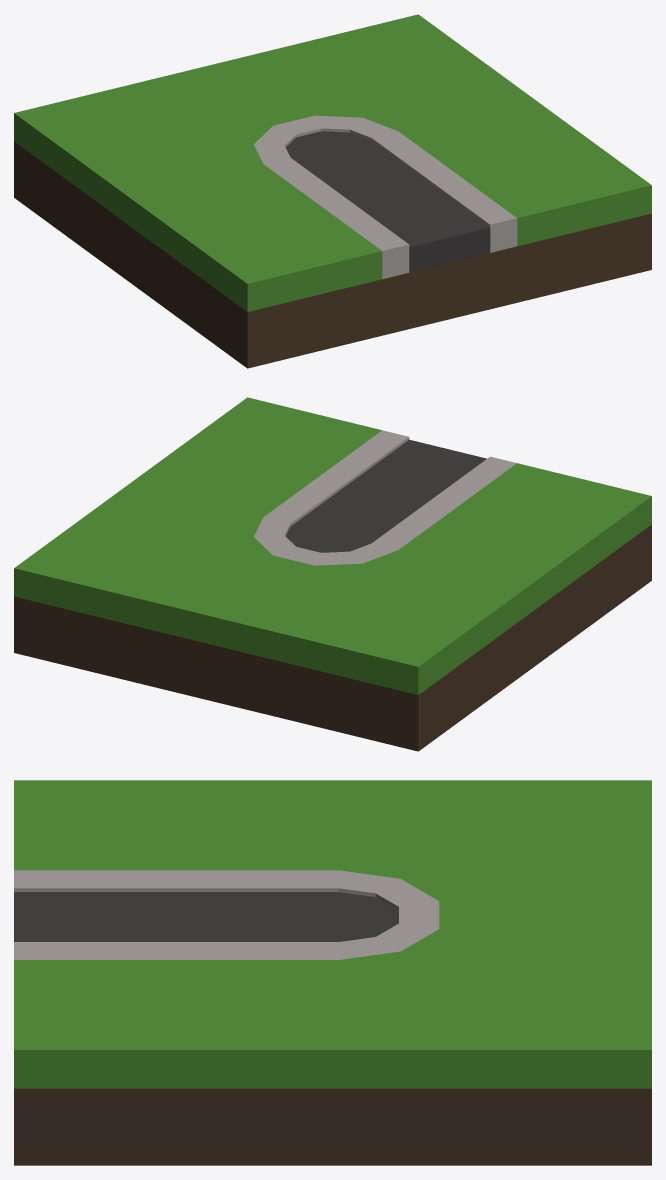
File: tiles-tile-road-end.glb
3 renders of one model, top to bottom at view 1: azimuth 30°, elevation 25°; view 2: azimuth 150°, elevation 25°; view 3: azimuth 270°, elevation 25°, orthographic. The views are drawn at different scales.
Parts seen in each view (by area): view 1: tile-road-end; view 2: tile-road-end; view 3: tile-road-end.
Boxes of the visible parts, x1,y1,x2,y2 form: tile-road-end: [14, 14, 651, 368]; tile-road-end: [14, 397, 651, 751]; tile-road-end: [14, 780, 651, 1165].
Size of the model in its own units: 30 by 6 by 30.
